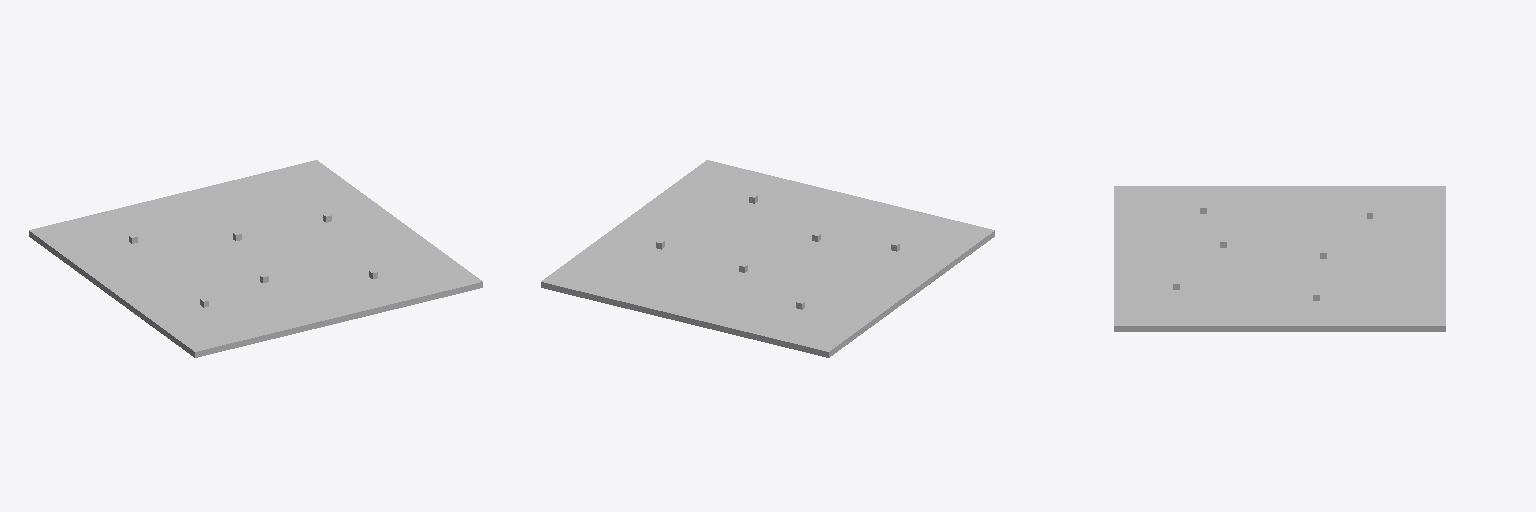
File: grass2.obj
3 renders of one model, left to right at view 1: azimuth 30°, elevation 25°; view 2: azimuth 150°, elevation 25°; view 3: azimuth 270°, elevation 25°, orthographic.
Visible parts, largest first — view 1: object 1; view 2: object 1; view 3: object 1.
Boxes of the visible parts, box(x1,y1,x2,y2) form: object 1: box(29, 160, 482, 357); object 1: box(541, 160, 994, 357); object 1: box(1114, 186, 1445, 331).
Size of the model in its own units: 5 by 0.2 by 5.